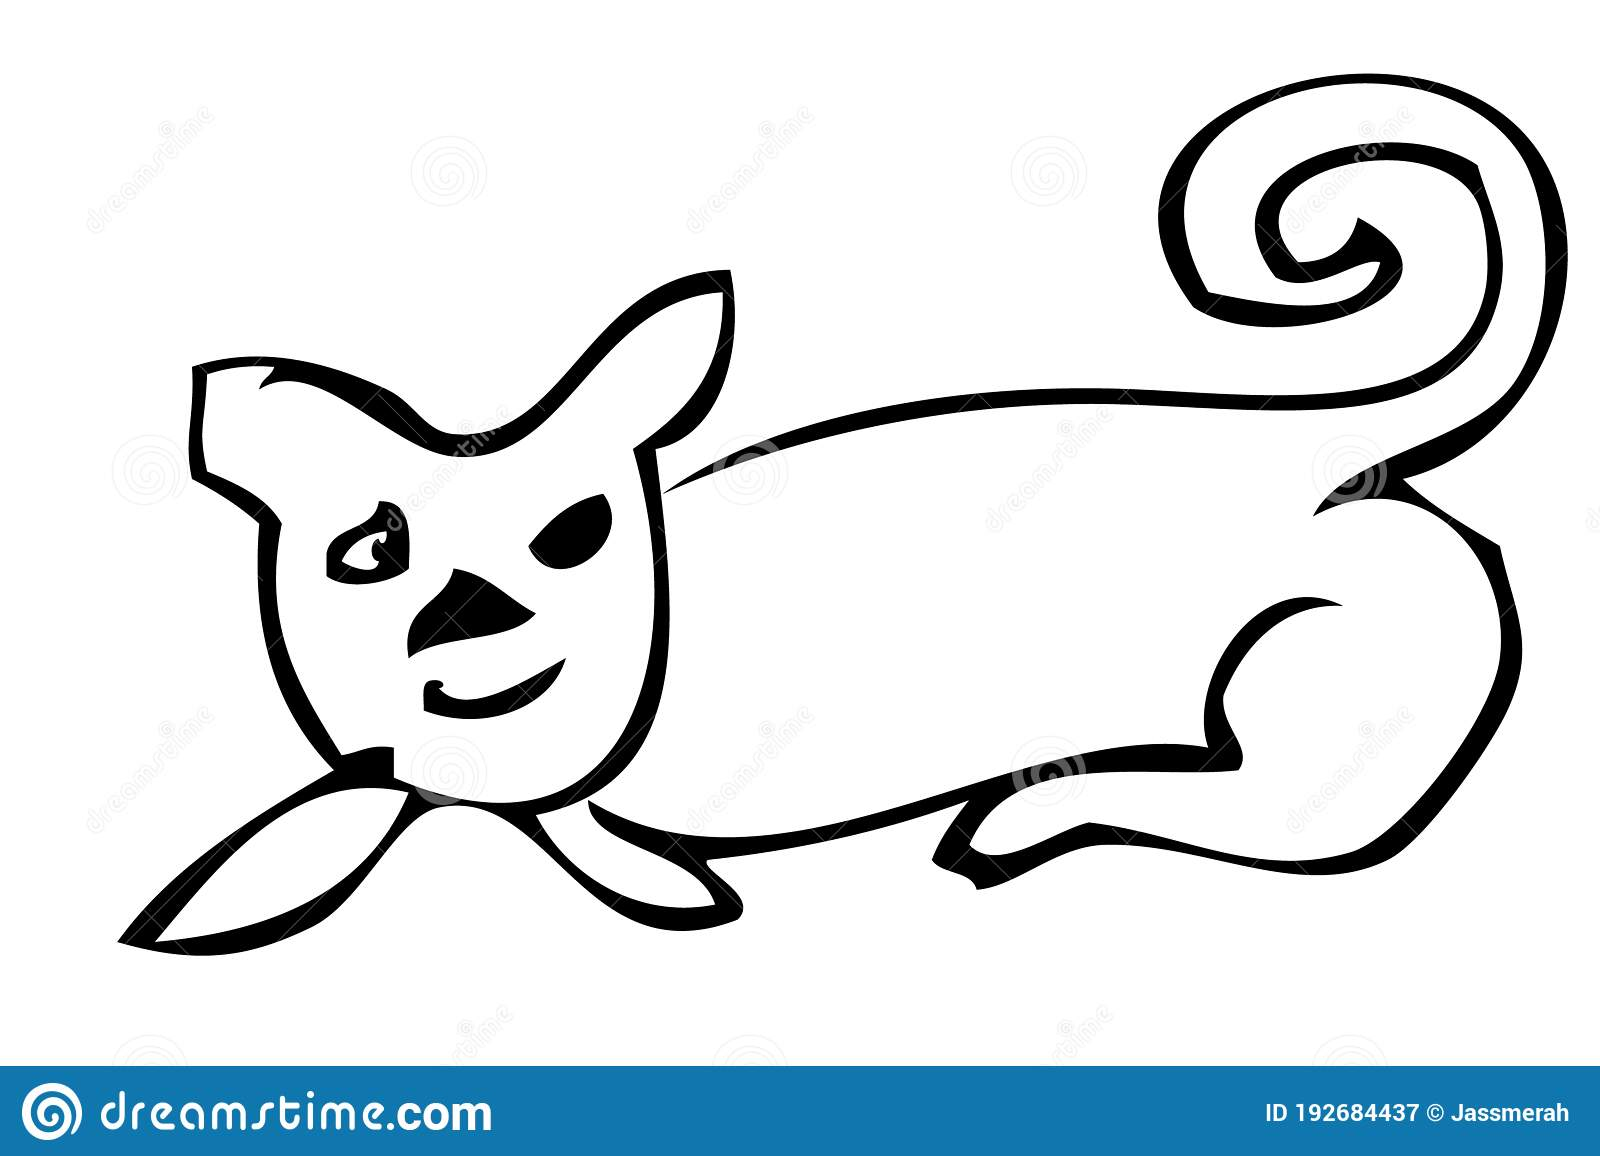cat: (106, 63, 1583, 977)
